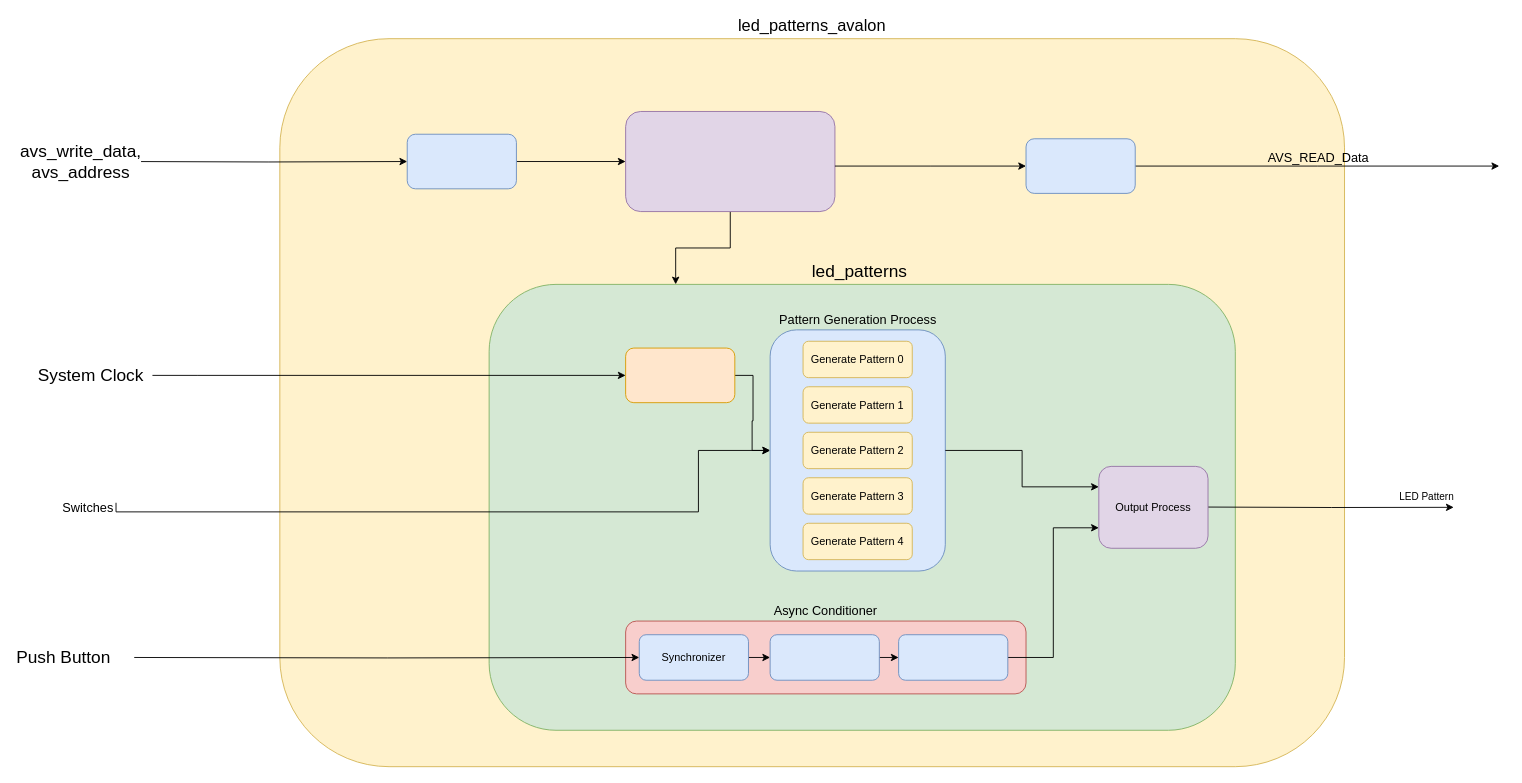
Some shapes in this 1522 by 783 pixel diagram are drawn without their labels. The centre of each missing label's shape, as x and y in pixels:
"Debouncer" belongs at (x=824, y=657).
"Internal clock Divider" belongs at (x=680, y=375).
"LED Control_reg, Base_period_reg, led_reg" belongs at (x=730, y=161).
"One_pulse" belongs at (x=953, y=657).
"Register Read Process" belongs at (x=1080, y=165).
"Register Write Process" belongs at (x=461, y=161).
